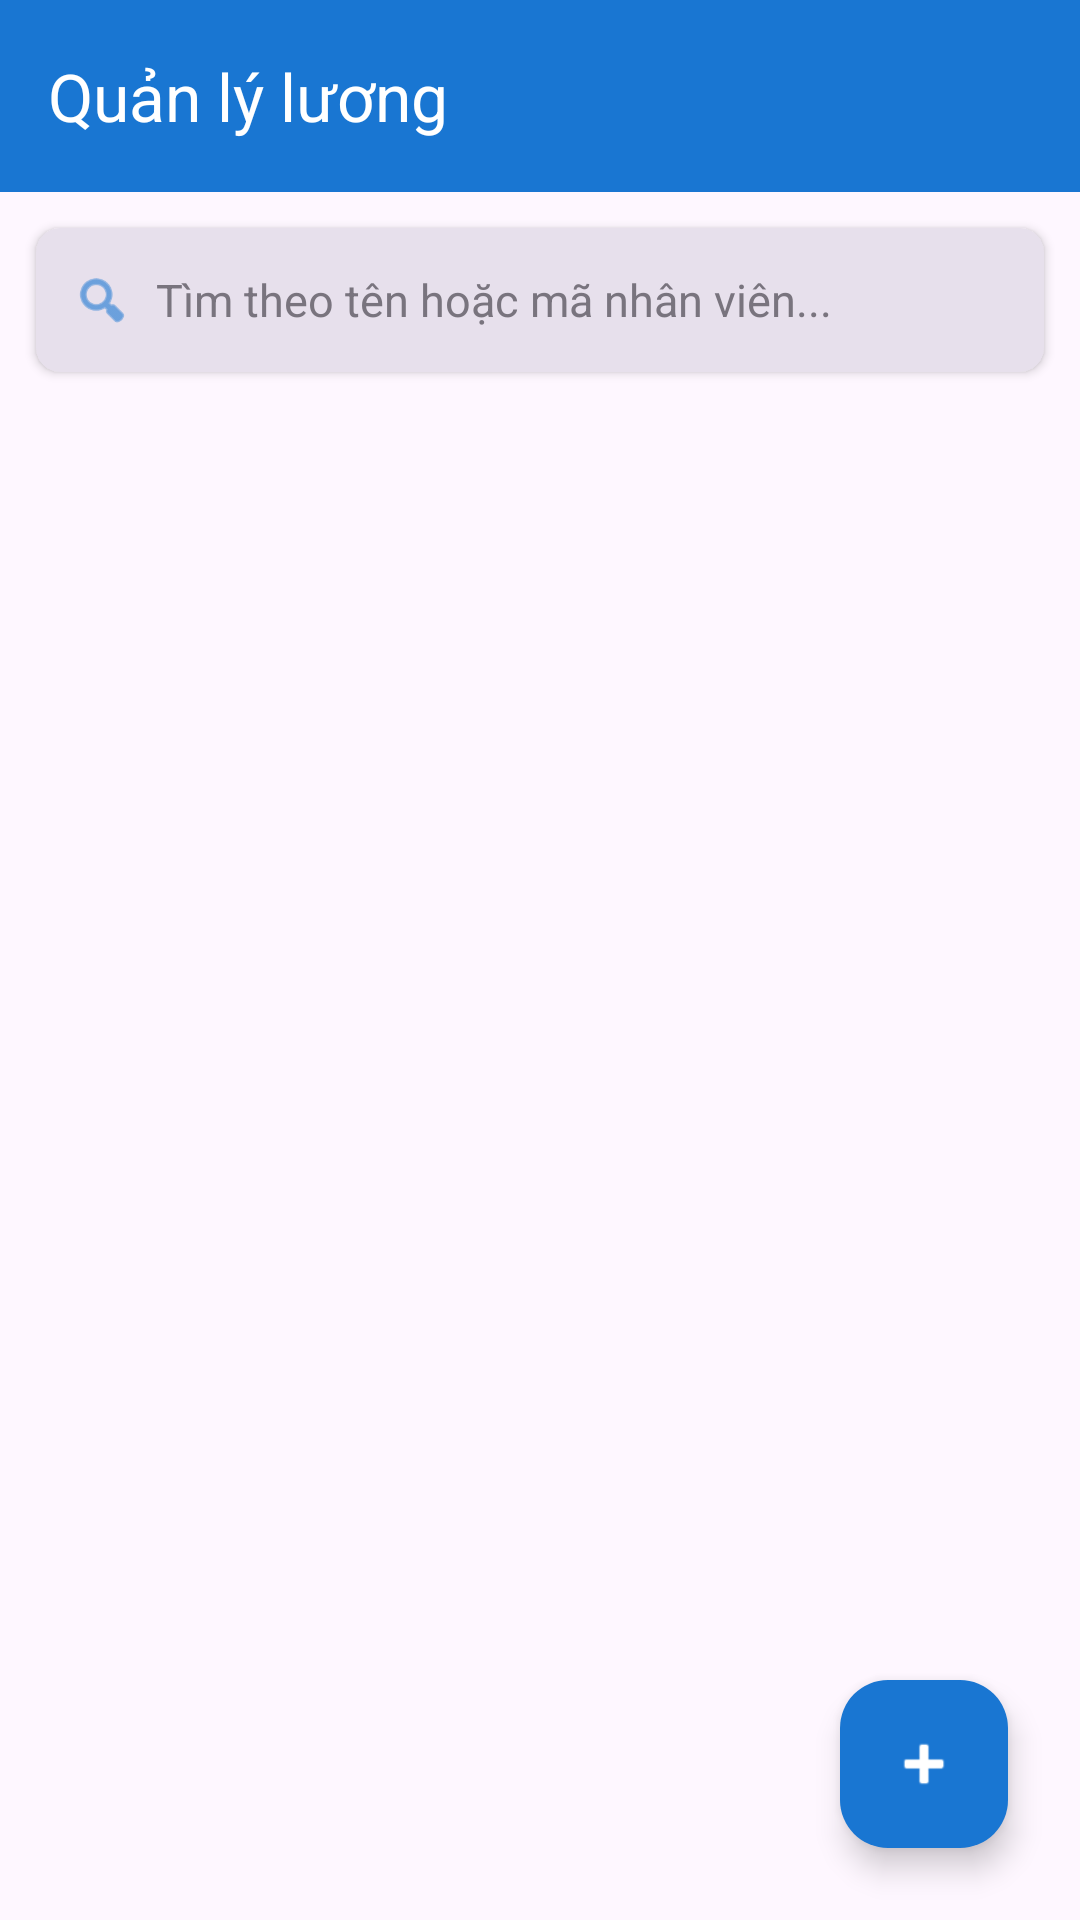

Locate icon controls on the screen. Image size 1080x1920, boxes as (left=x1, top=y1, right=x2, bottom=y2).
add: (left=840, top=1680, right=1008, bottom=1848)
search: (left=80, top=278, right=124, bottom=323)
